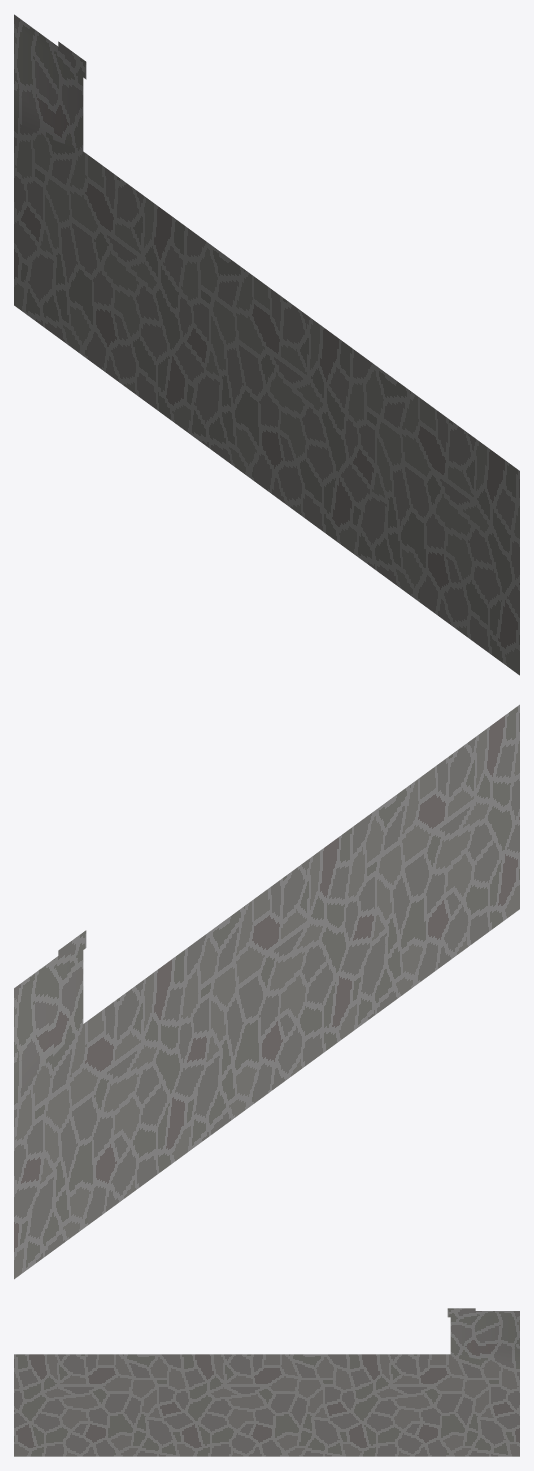
The model's file is kd_stage_135b75_4_13_bounded.glb.
3 renders of one model, top to bottom at view 1: azimuth 30°, elevation 25°; view 2: azimuth 150°, elevation 25°; view 3: azimuth 270°, elevation 25°, orthographic. The views are drawn at different scales.
Parts seen in each view (by area): view 1: kd_stage_135b75_4_13_bounded; view 2: kd_stage_135b75_4_13_bounded; view 3: kd_stage_135b75_4_13_bounded.
Part boxes in pixels (box(x1,y1,x2,y2)): kd_stage_135b75_4_13_bounded: box(14, 14, 519, 675); kd_stage_135b75_4_13_bounded: box(14, 704, 519, 1279); kd_stage_135b75_4_13_bounded: box(14, 1308, 519, 1456).
Size of the model in its own units: 9.54e-06 by 0.2745 by 0.849.
1 material, 1 textured.
